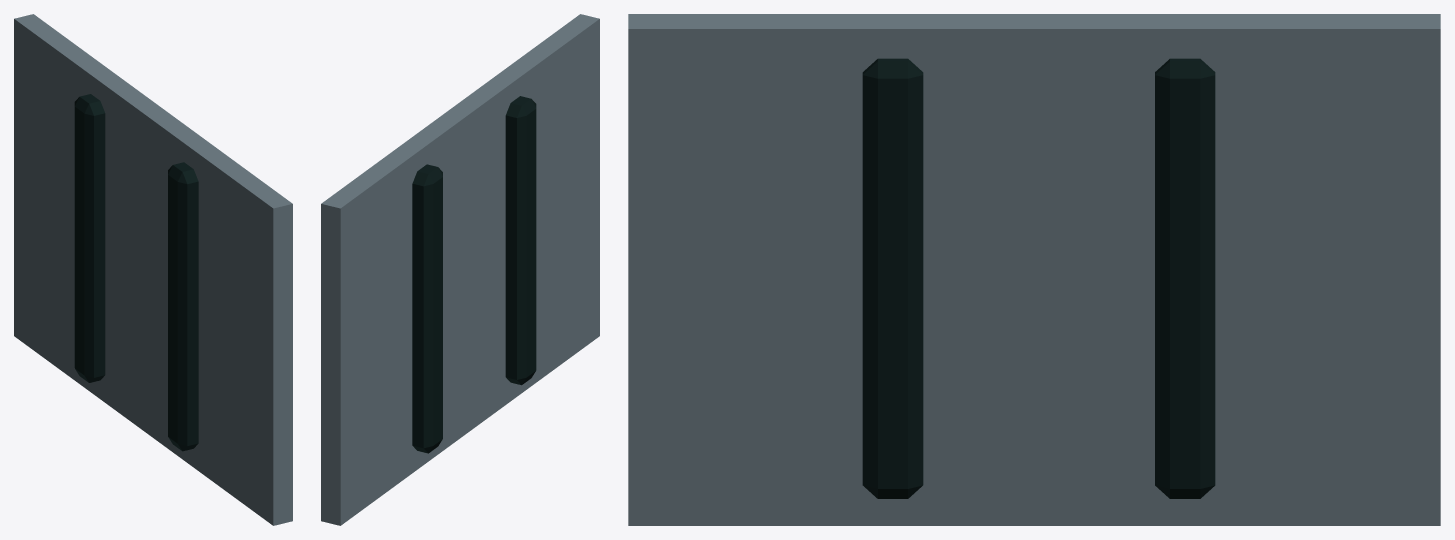
The model's file is plaka 10 emboss.fbx.
3 renders of one model, left to right at view 1: azimuth 30°, elevation 25°; view 2: azimuth 150°, elevation 25°; view 3: azimuth 270°, elevation 25°, orthographic. The views are drawn at different scales.
Visible parts, largest first — view 1: polySurface1955; view 2: polySurface1955; view 3: polySurface1955.
Part boxes in pixels (bbox=[...]): polySurface1955: bbox=[14, 14, 292, 525]; polySurface1955: bbox=[321, 14, 599, 525]; polySurface1955: bbox=[628, 14, 1440, 525].
Bounding box in the file's own units: 20.11 × 139 × 206.
